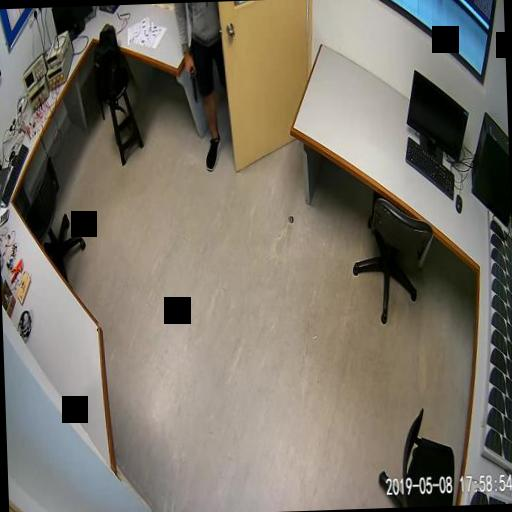Handgun: (182, 59, 196, 101)
